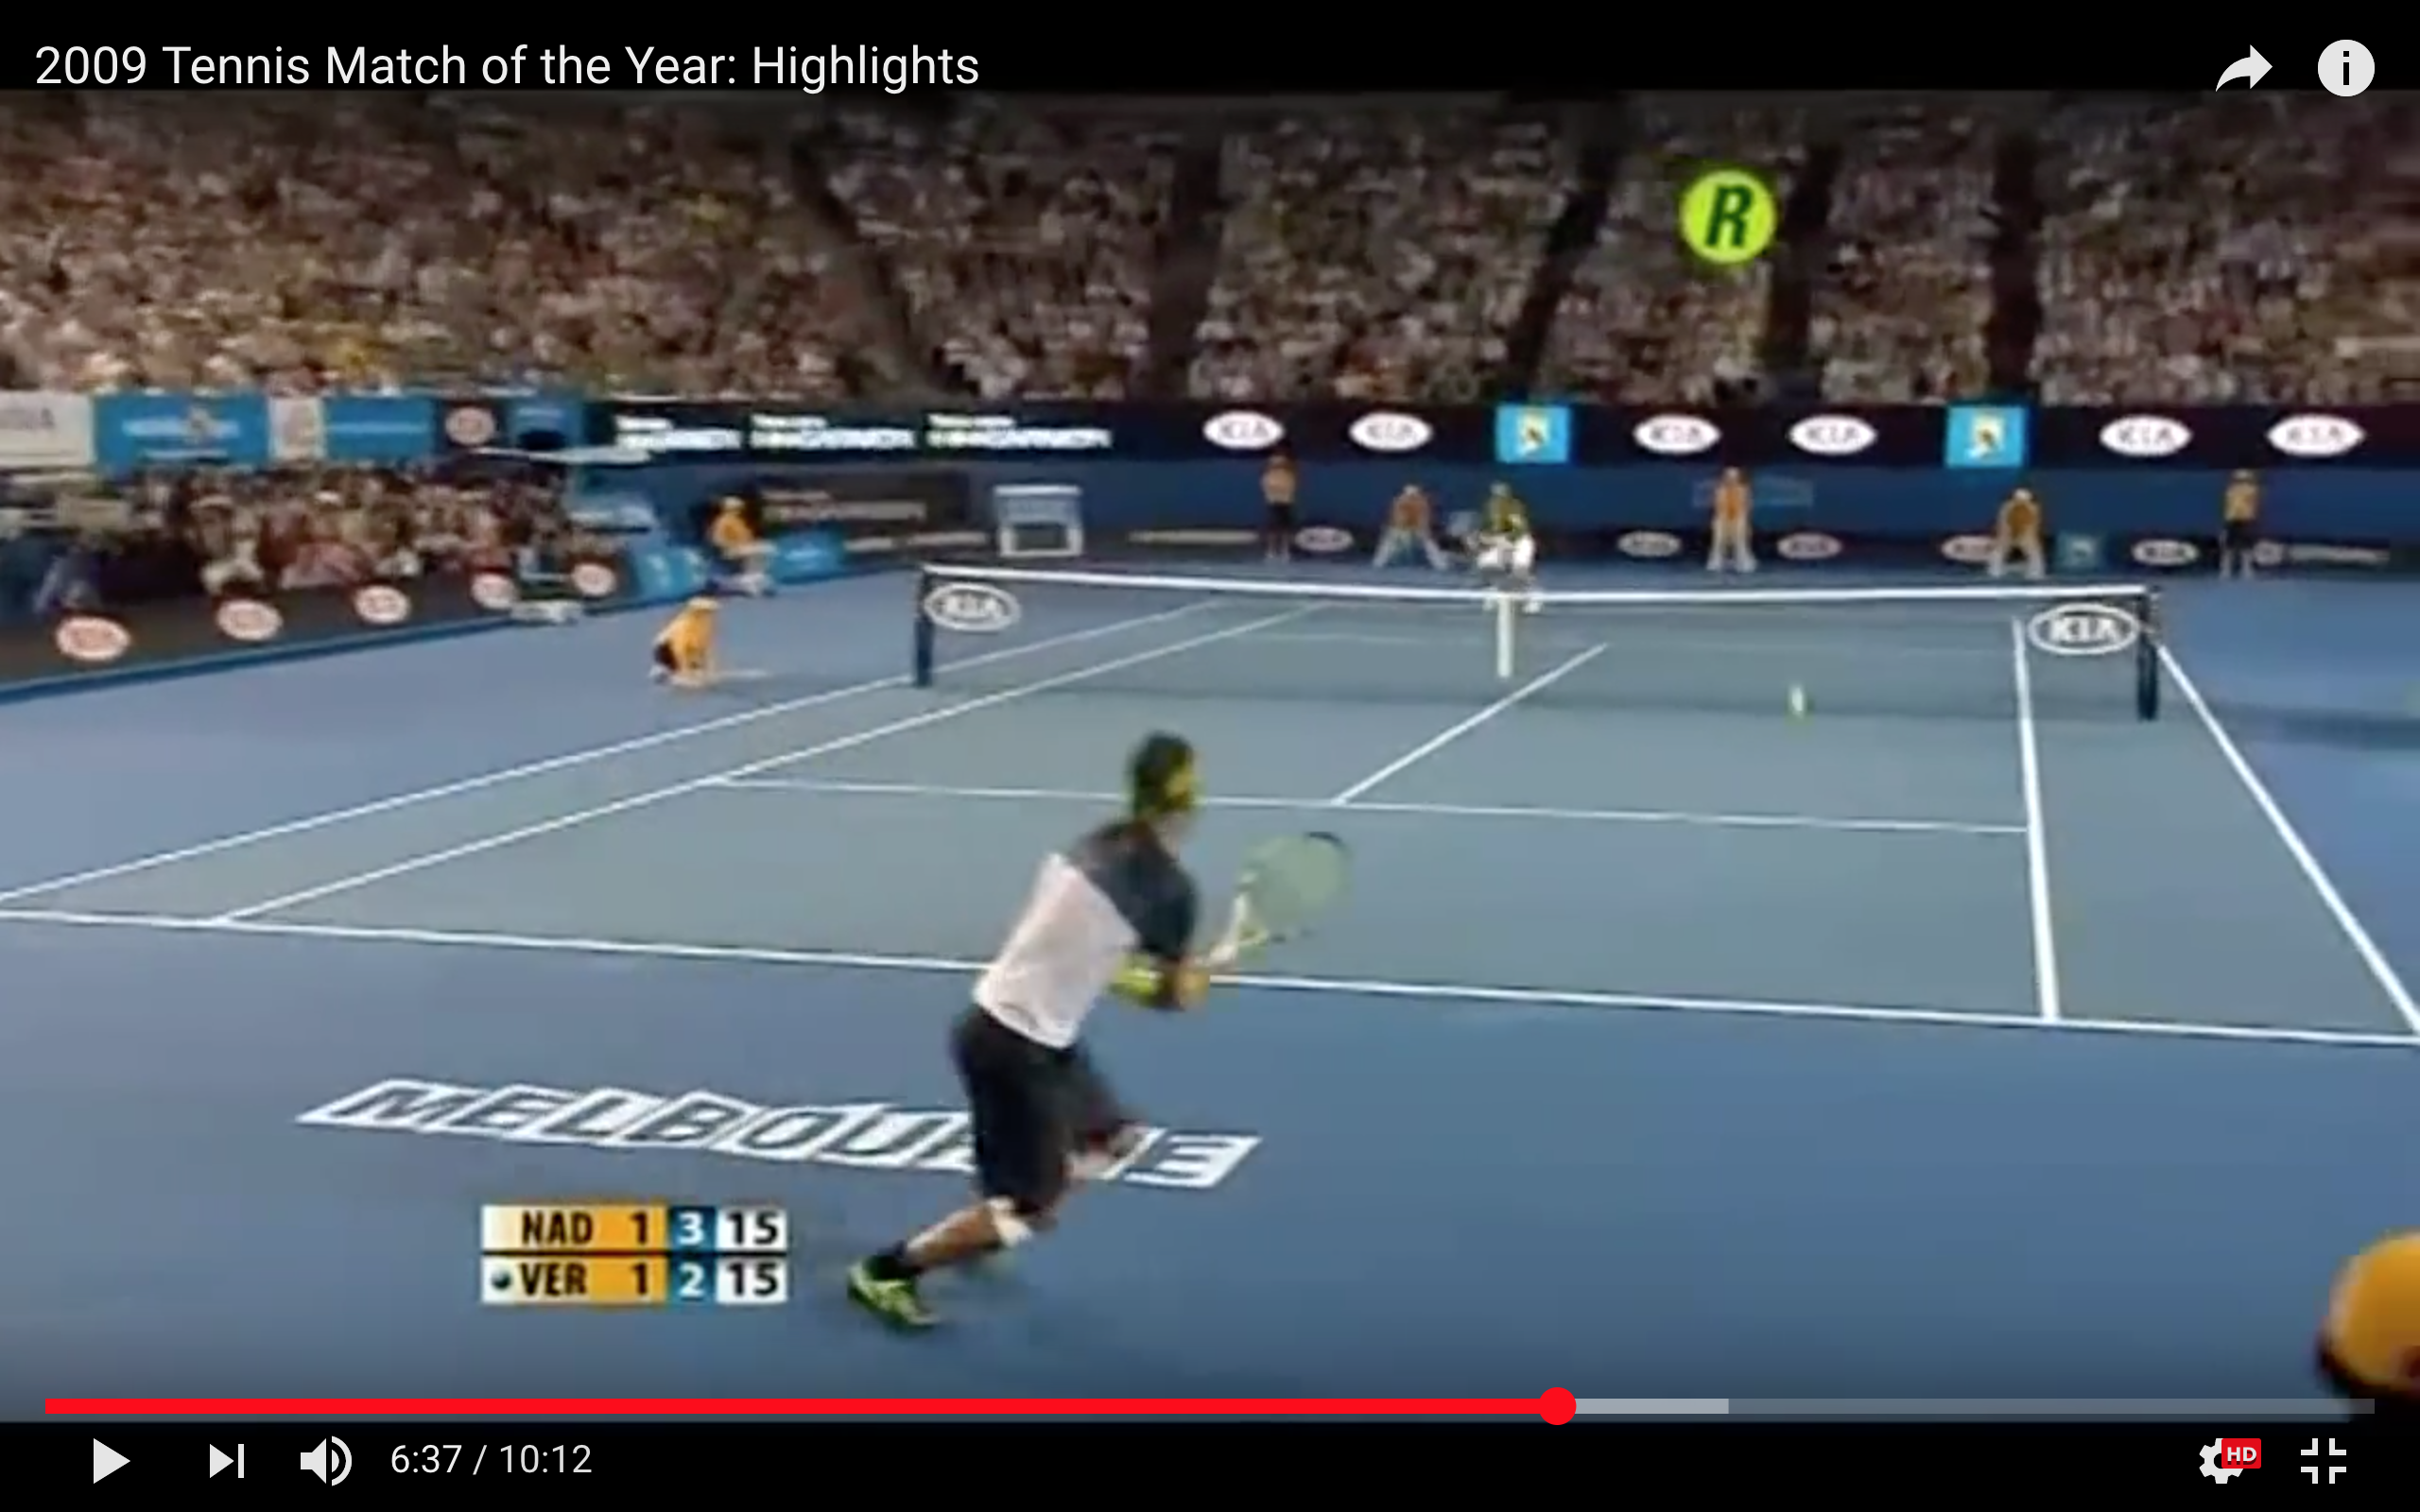tennis ball: (1786, 685, 1818, 725)
tennis player: (838, 700, 1365, 1352), (1461, 481, 1552, 596)
